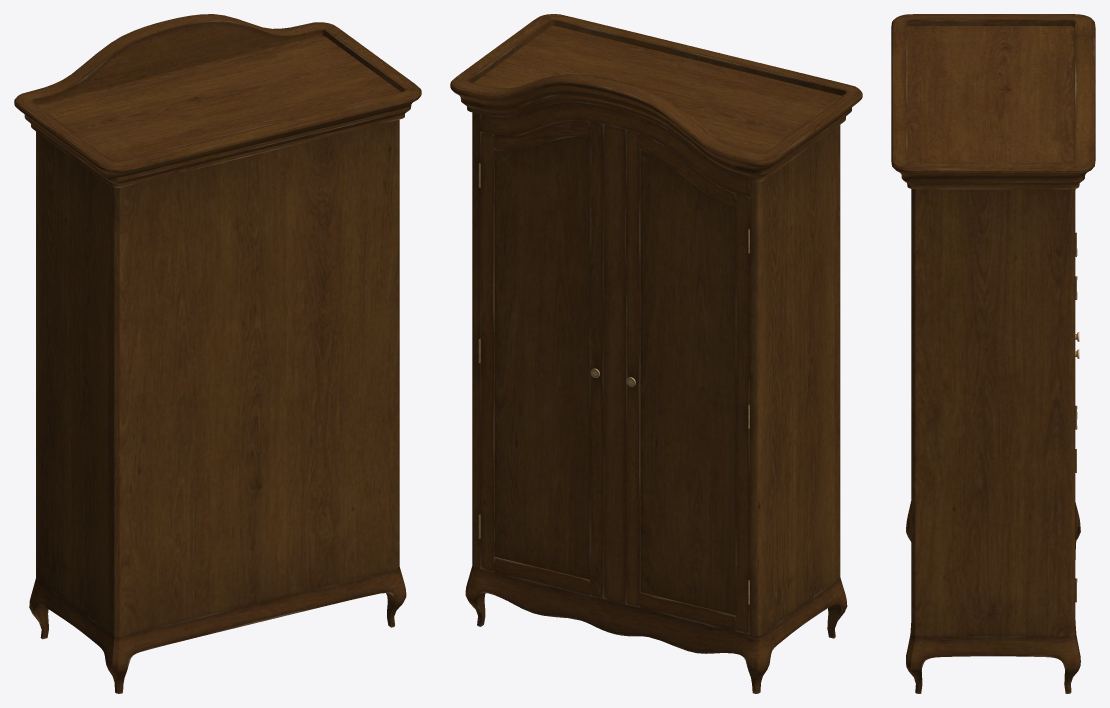
File: wardrobe-double.glb
The picture shows the model from 3 angles, left to right: view 1: azimuth 30°, elevation 25°; view 2: azimuth 150°, elevation 25°; view 3: azimuth 270°, elevation 25°; orthographic projection.
Parts seen in each view (by area): view 1: wardrobe-double; view 2: wardrobe-double; view 3: wardrobe-double.
Part boxes in pixels (box(x1,y1,x2,y2)): wardrobe-double: box(14, 14, 421, 693); wardrobe-double: box(450, 14, 862, 693); wardrobe-double: box(891, 14, 1095, 693).
Bounding box in the file's own units: 1.18 × 2.03 × 0.6563.
1 material, 1 textured.
